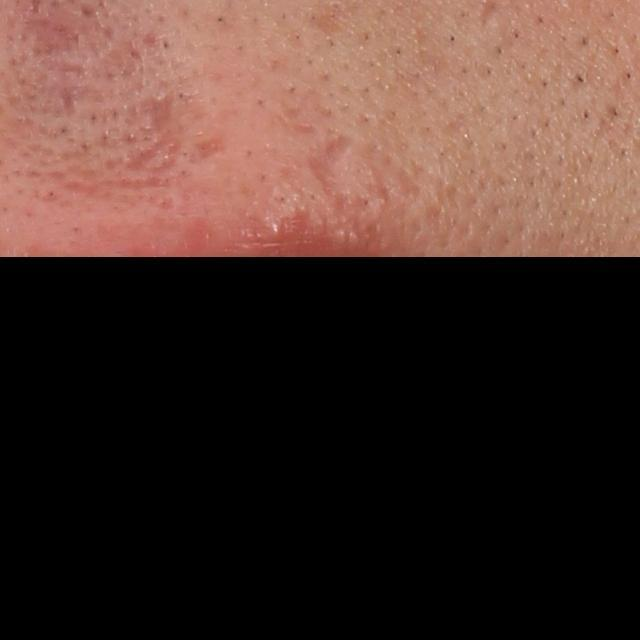atrophic_scar: (31, 3, 88, 56), (61, 86, 79, 115)
